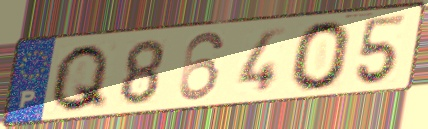4: (235, 26, 283, 95)
5: (352, 12, 408, 89)
6: (177, 29, 227, 104)
8: (118, 38, 167, 107)
O: (289, 19, 354, 94)
Q: (46, 41, 113, 115)
